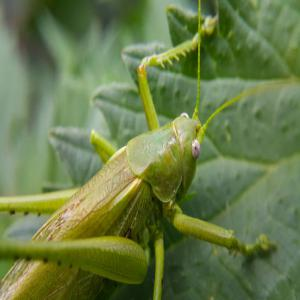locust: (23, 93, 207, 296)
